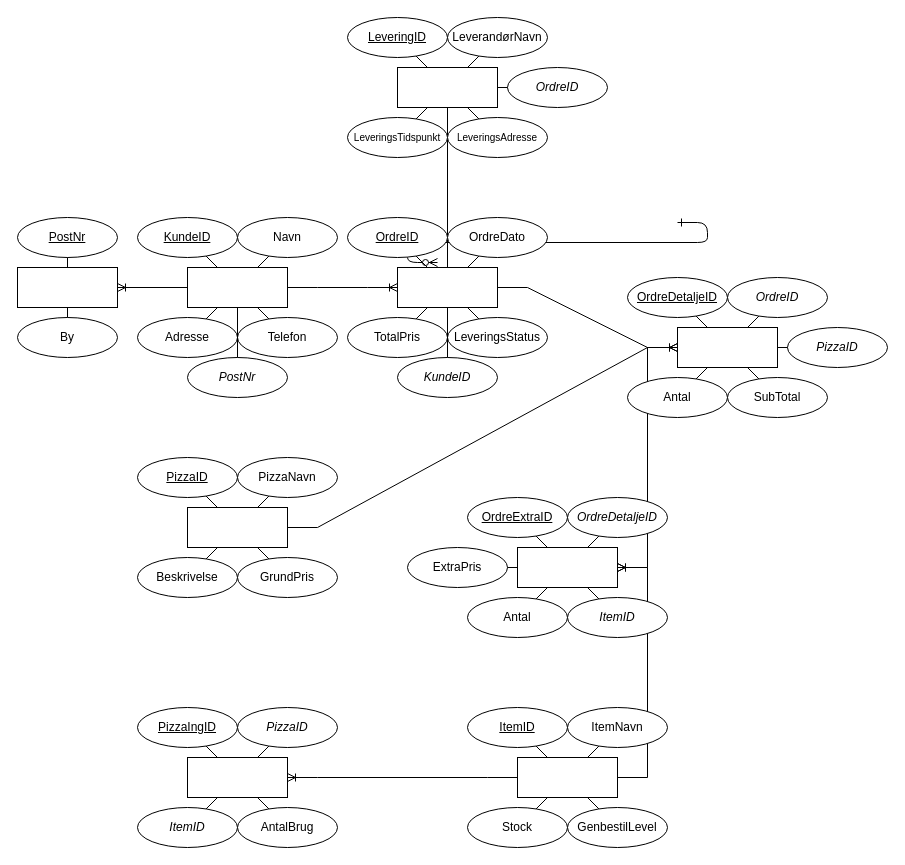
Image size: 905x865. Some labels were removed from this diagram. The centre of each missing label's shape, as x and y in pixels:
"Inventory" goes at pixel 567 777.
"Kunde" goes at pixel 237 287.
"Levering" goes at pixel 447 87.
"Menu (Pizza)" goes at pixel 237 527.
"OrderExtra" goes at pixel 567 567.
"Ordre" goes at pixel 447 287.
"OrdreDetalje" goes at pixel 727 347.
"PizzaIngredient" goes at pixel 237 777.
"PostNrBy" goes at pixel 67 287.
